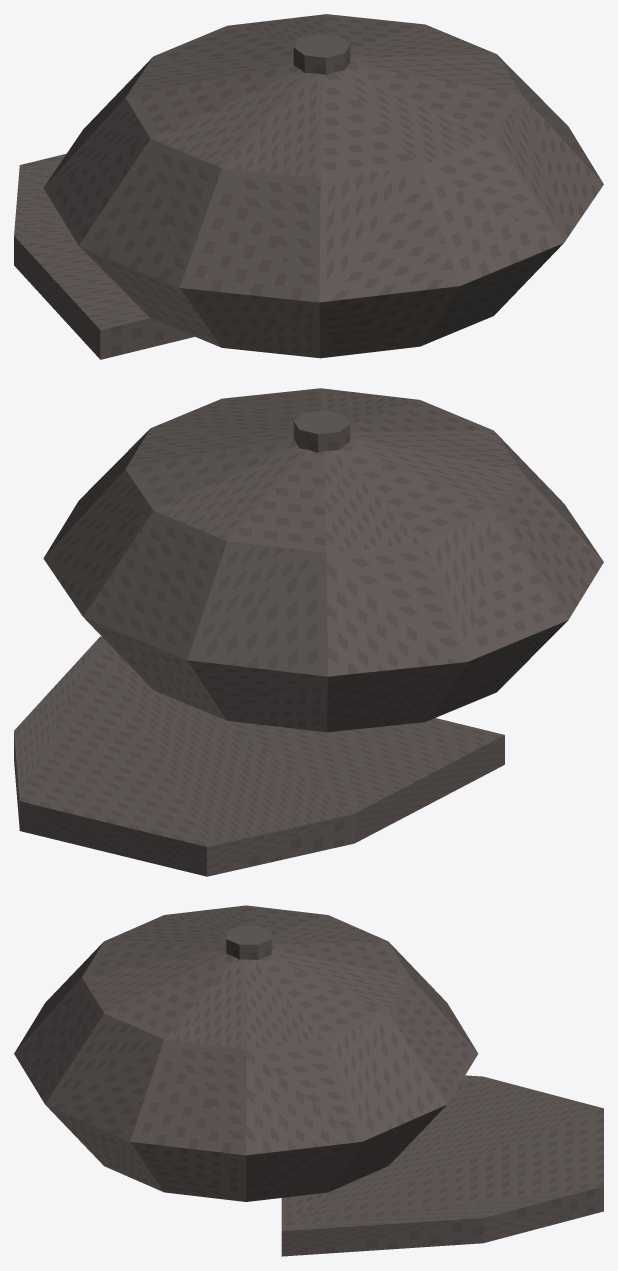
The model's file is hat_newsboy.glb.
3 views of the same model, one above another, from view 1: azimuth 30°, elevation 25°; view 2: azimuth 150°, elevation 25°; view 3: azimuth 270°, elevation 25° (orthographic). The views are drawn at different scales.
Visible parts, largest first — view 1: block_soft cap crown, block_curved peak, block_covered button; view 2: block_soft cap crown, block_curved peak, block_covered button; view 3: block_soft cap crown, block_curved peak, block_covered button.
Boxes of the visible parts, bbox=[...] form: block_soft cap crown: bbox=[43, 14, 603, 358]; block_curved peak: bbox=[14, 153, 194, 359]; block_covered button: bbox=[293, 33, 350, 74]; block_soft cap crown: bbox=[43, 388, 603, 732]; block_curved peak: bbox=[14, 636, 504, 876]; block_covered button: bbox=[293, 410, 350, 452]; block_soft cap crown: bbox=[14, 905, 478, 1201]; block_curved peak: bbox=[281, 1075, 603, 1256]; block_covered button: bbox=[226, 925, 271, 959].
Size of the model in its own units: 0.2129 by 0.1158 by 0.261.
Materials: 1 (1 with a texture image).
